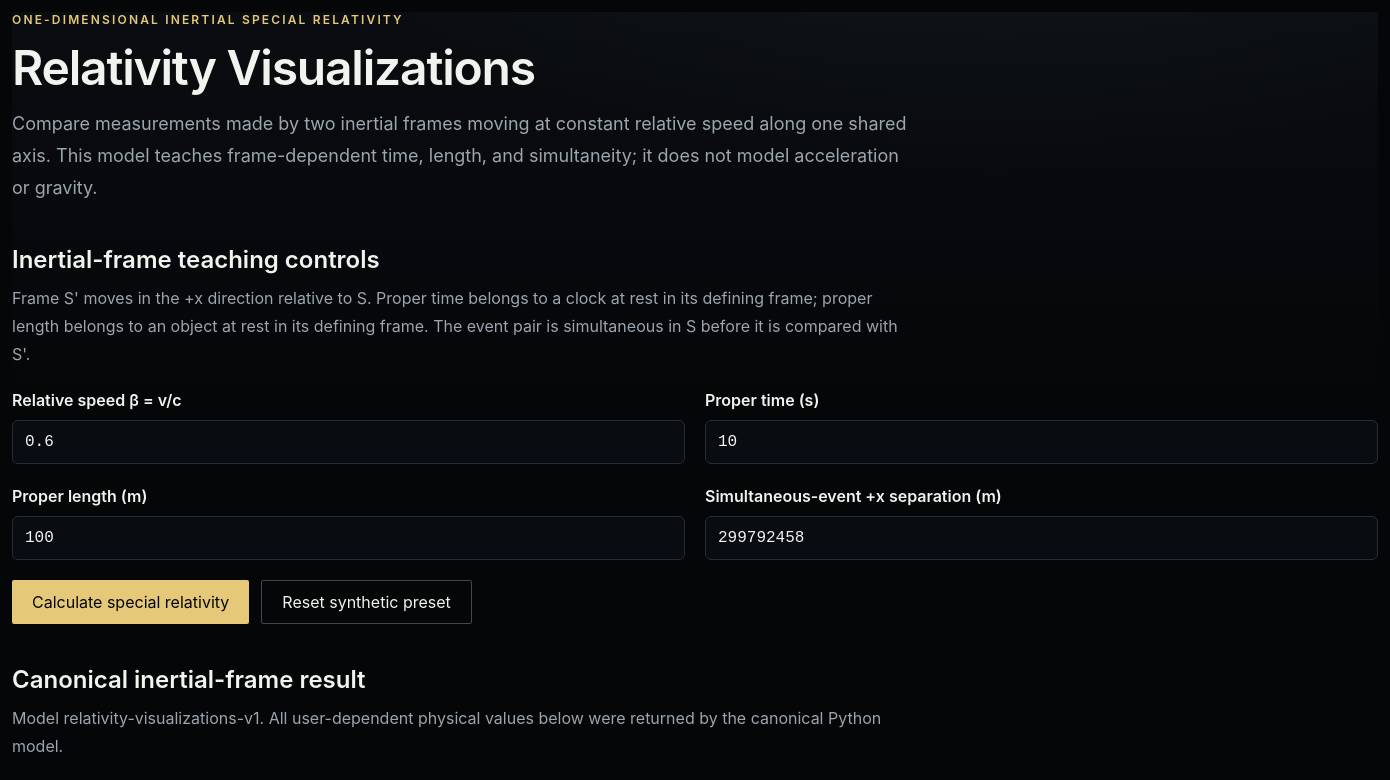
Scenario: RelativityVisualizationsView › rejects beta at c locally without an API request
The width and height of the screenshot is (1390, 780).
Replace the text in the number field named "Relative speed as fraction of c" with "1" at (348, 442), box [12,420,685,464]
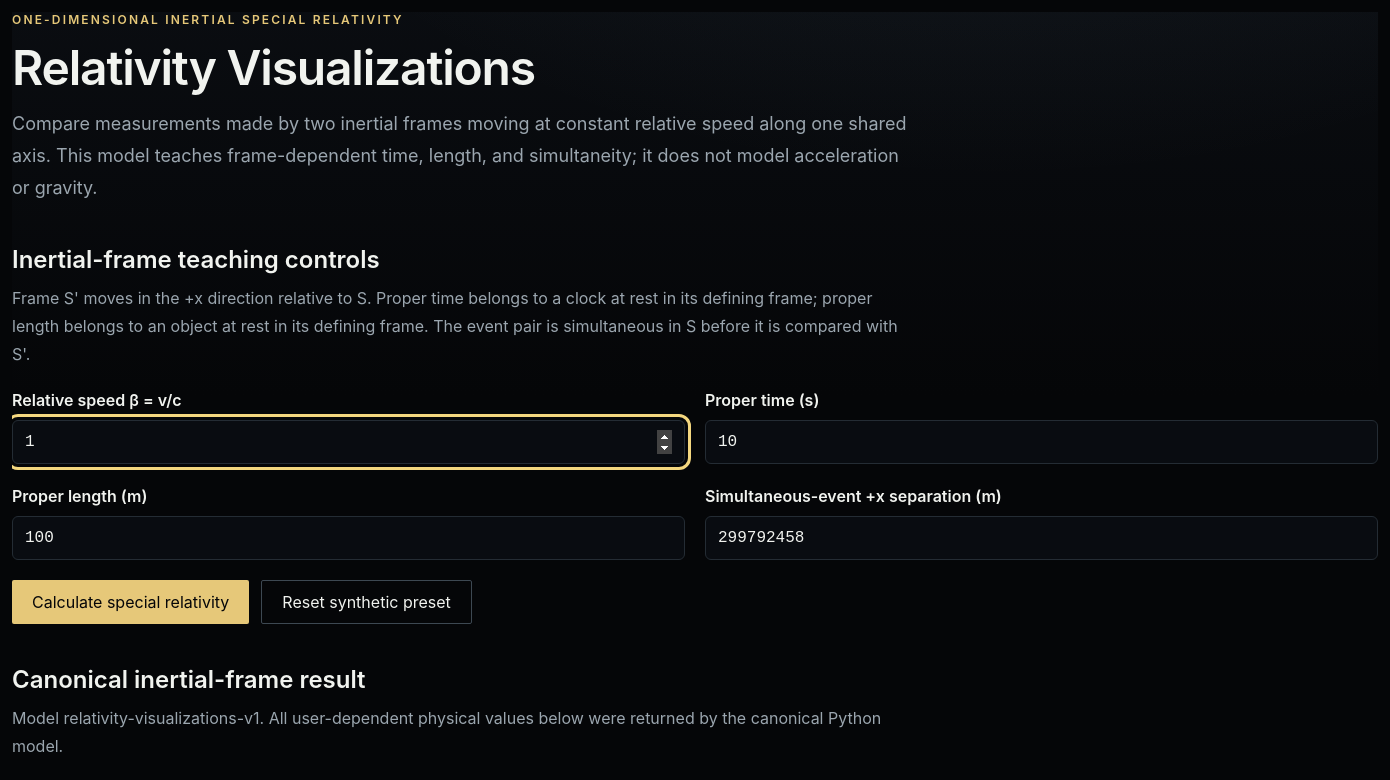
Submit the form named "Calculate special relativity", box [12,388,1378,624]
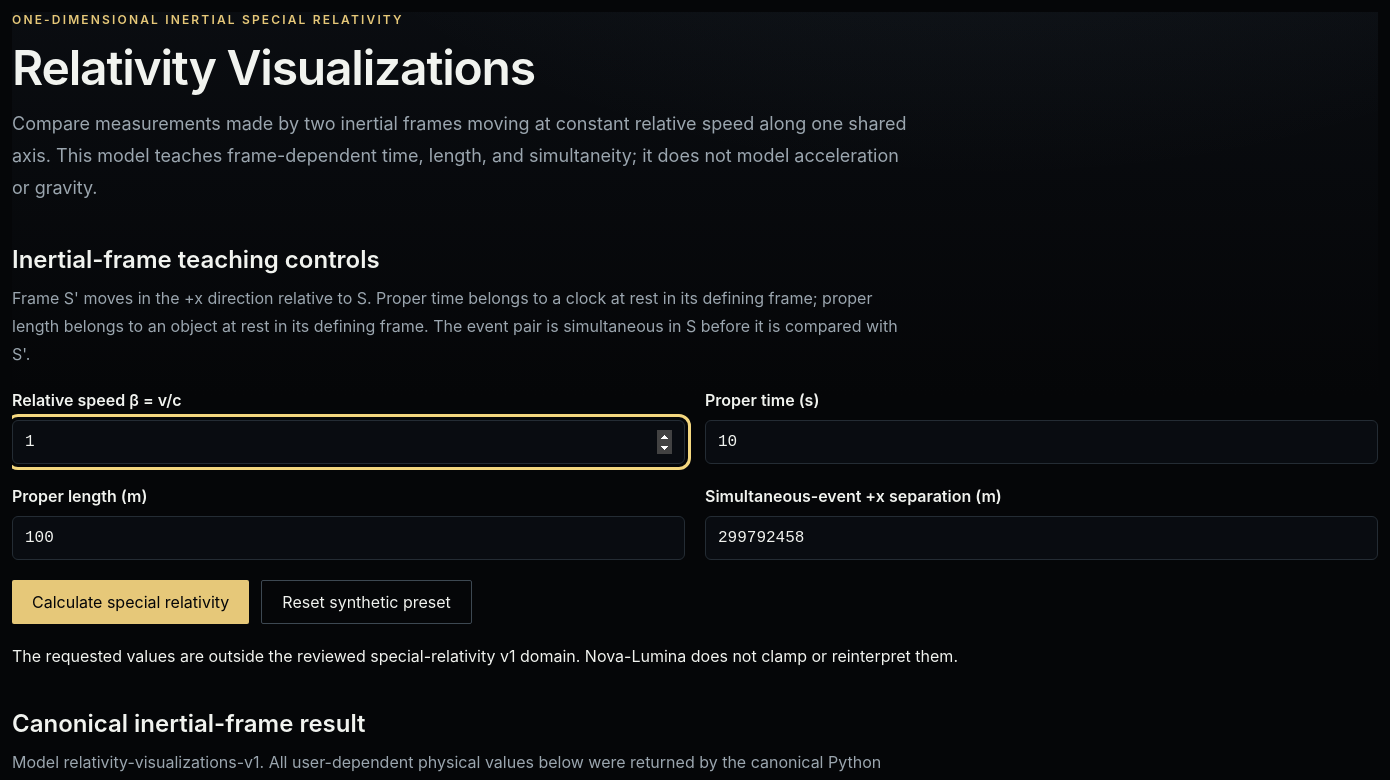
Expected: the text "outside the reviewed special-relativity v1 domain" is shown, [12,646,958,666]
